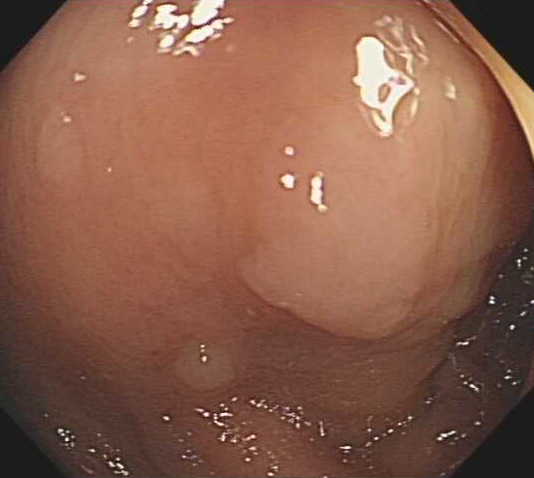others: (237, 93, 485, 341), (31, 98, 85, 190), (172, 337, 232, 390)
